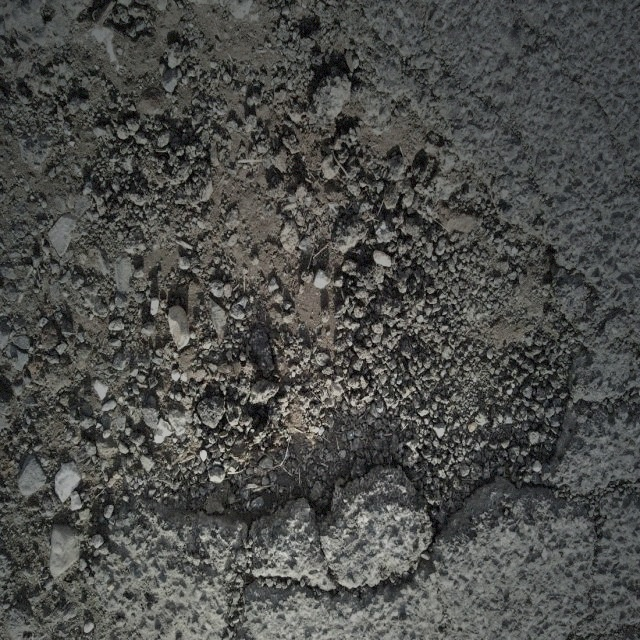pothole: (130, 102, 589, 590)
